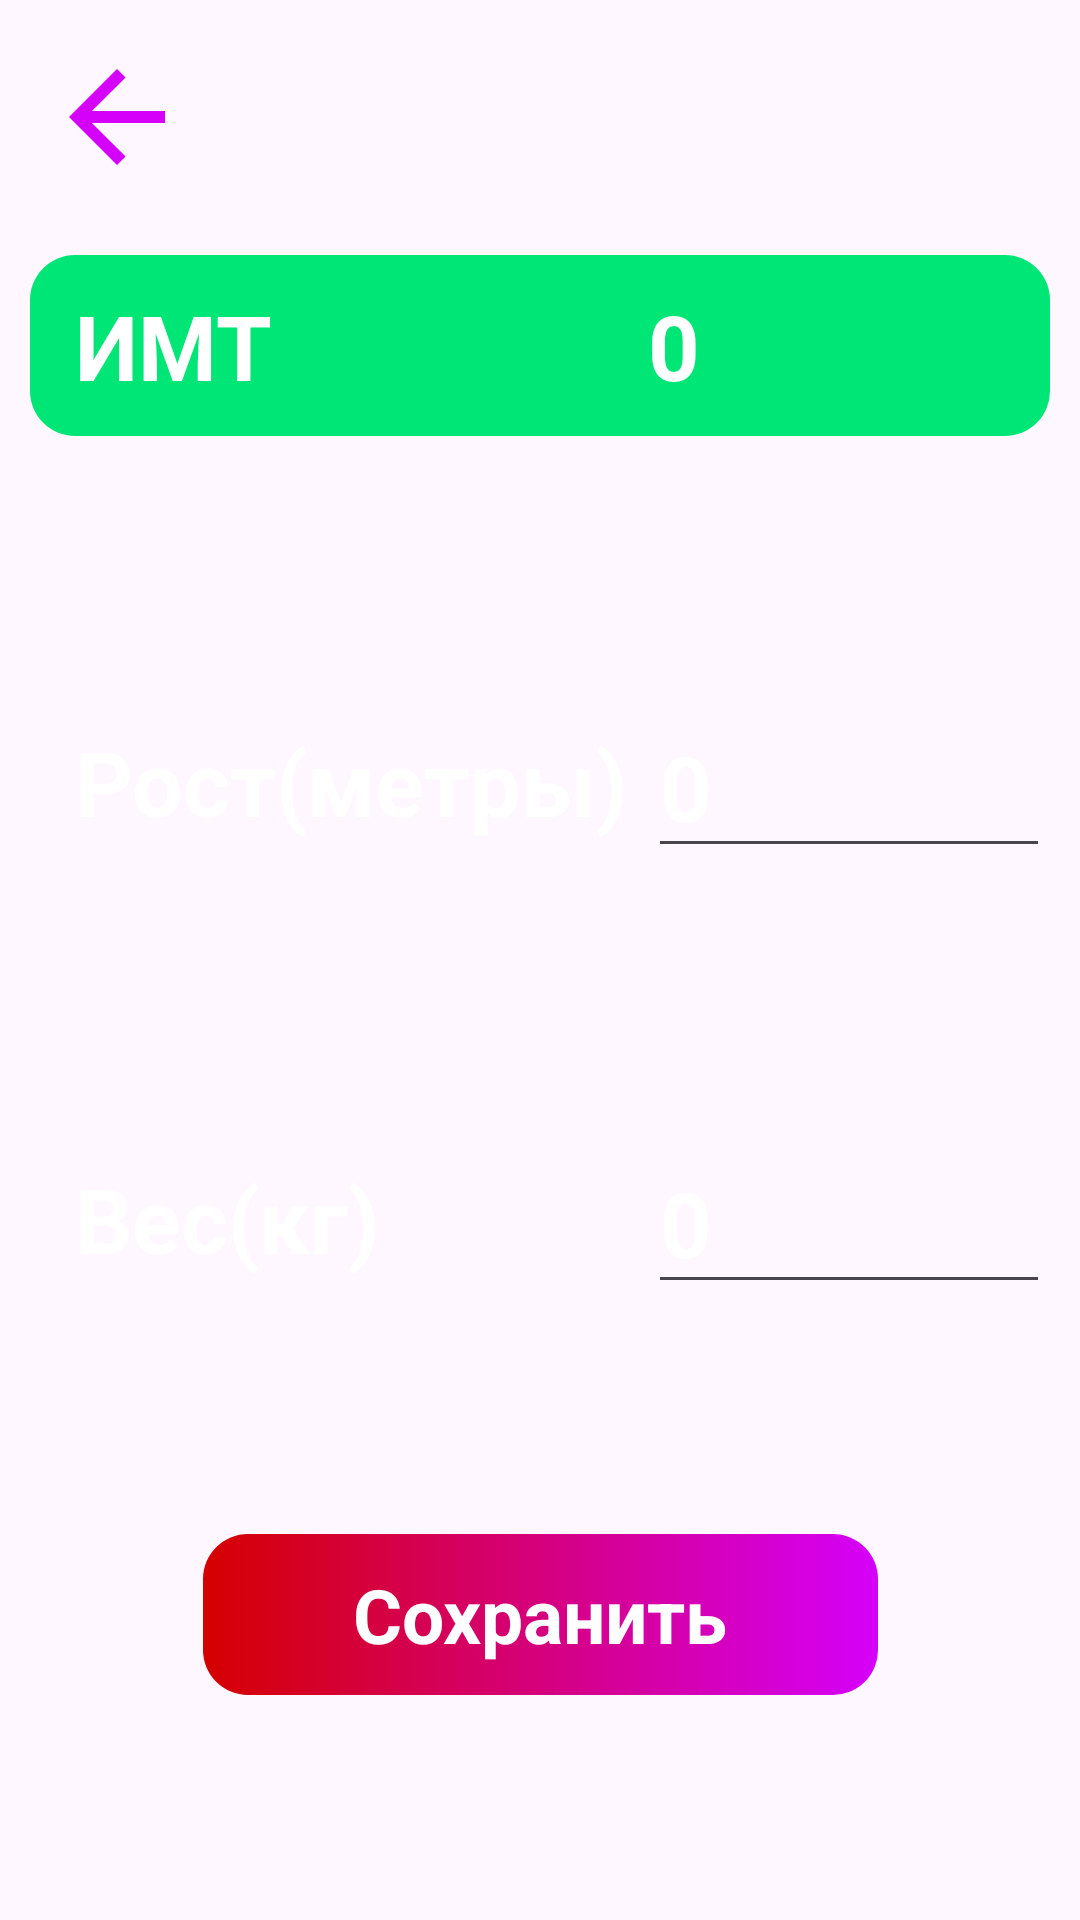

Point at icon controls on the screen. Image size 1080x1920, points as point (x, y).
arrow back: point (117, 117)
